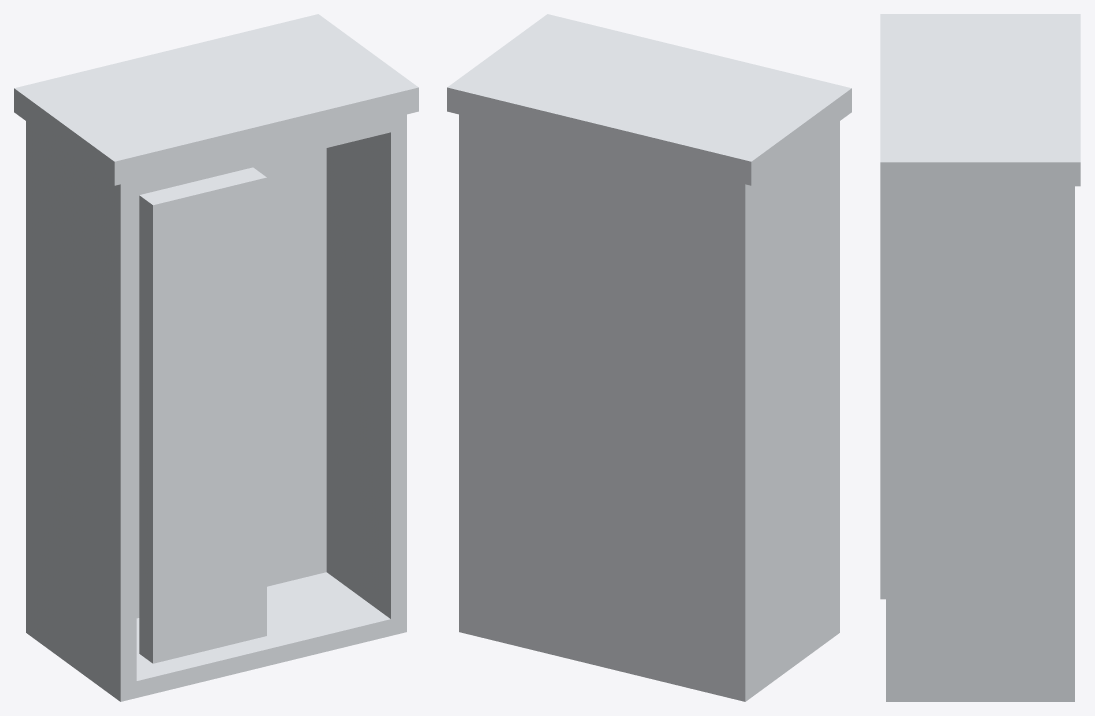
Rendered from fgr_fur_closetfbx.fbx.
3 views of the same model, side by side, from view 1: azimuth 30°, elevation 25°; view 2: azimuth 150°, elevation 25°; view 3: azimuth 270°, elevation 25° (orthographic).
Visible parts, largest first — view 1: fgr_fur_closet; view 2: fgr_fur_closet; view 3: fgr_fur_closet.
Part boxes in pixels (x1,y1,x2,y2): fgr_fur_closet: (14,14,418,701); fgr_fur_closet: (447,14,851,701); fgr_fur_closet: (880,14,1080,701).
Bounding box in the file's own units: 1488 × 2544 × 850.
Materials: 1 (1 with a texture image).
